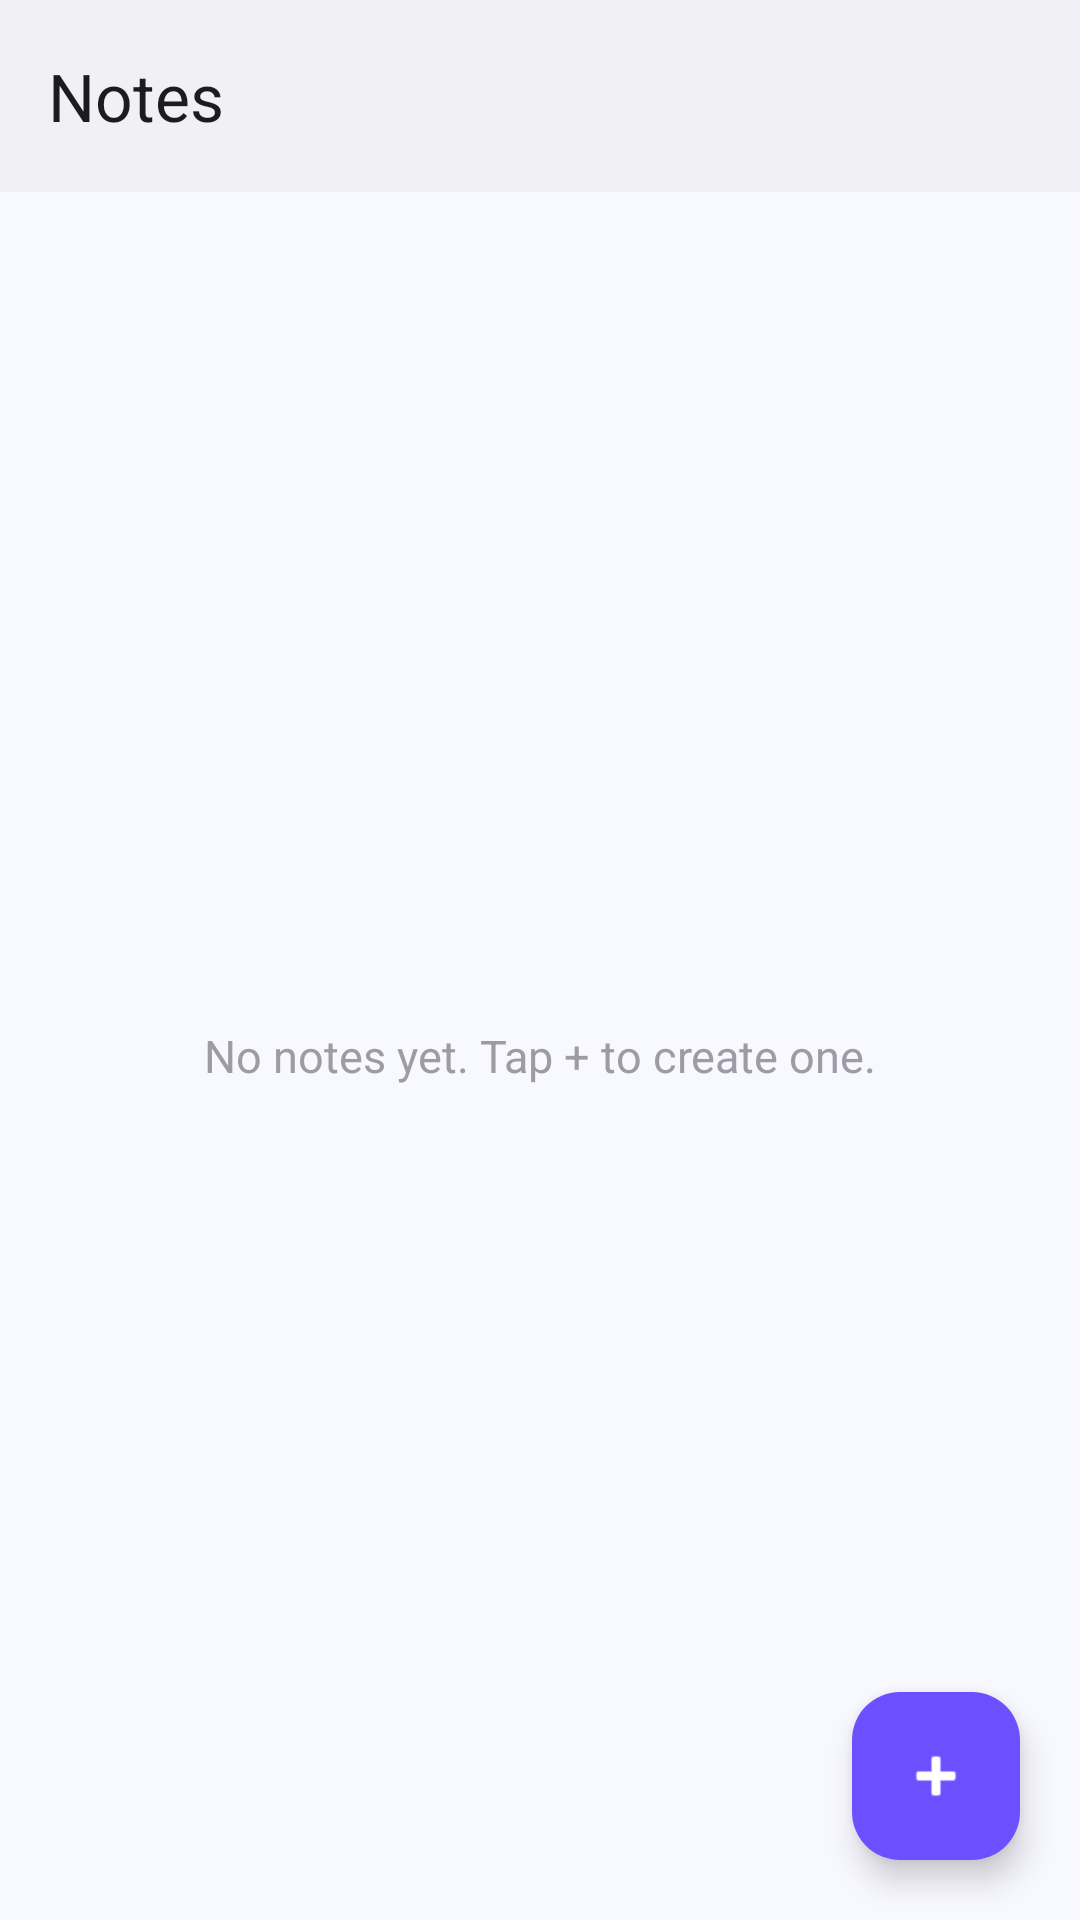

Screen size 1080×1920. Icon name, then its center in pixels as (x=x, y=y):
New note: (x=936, y=1776)
